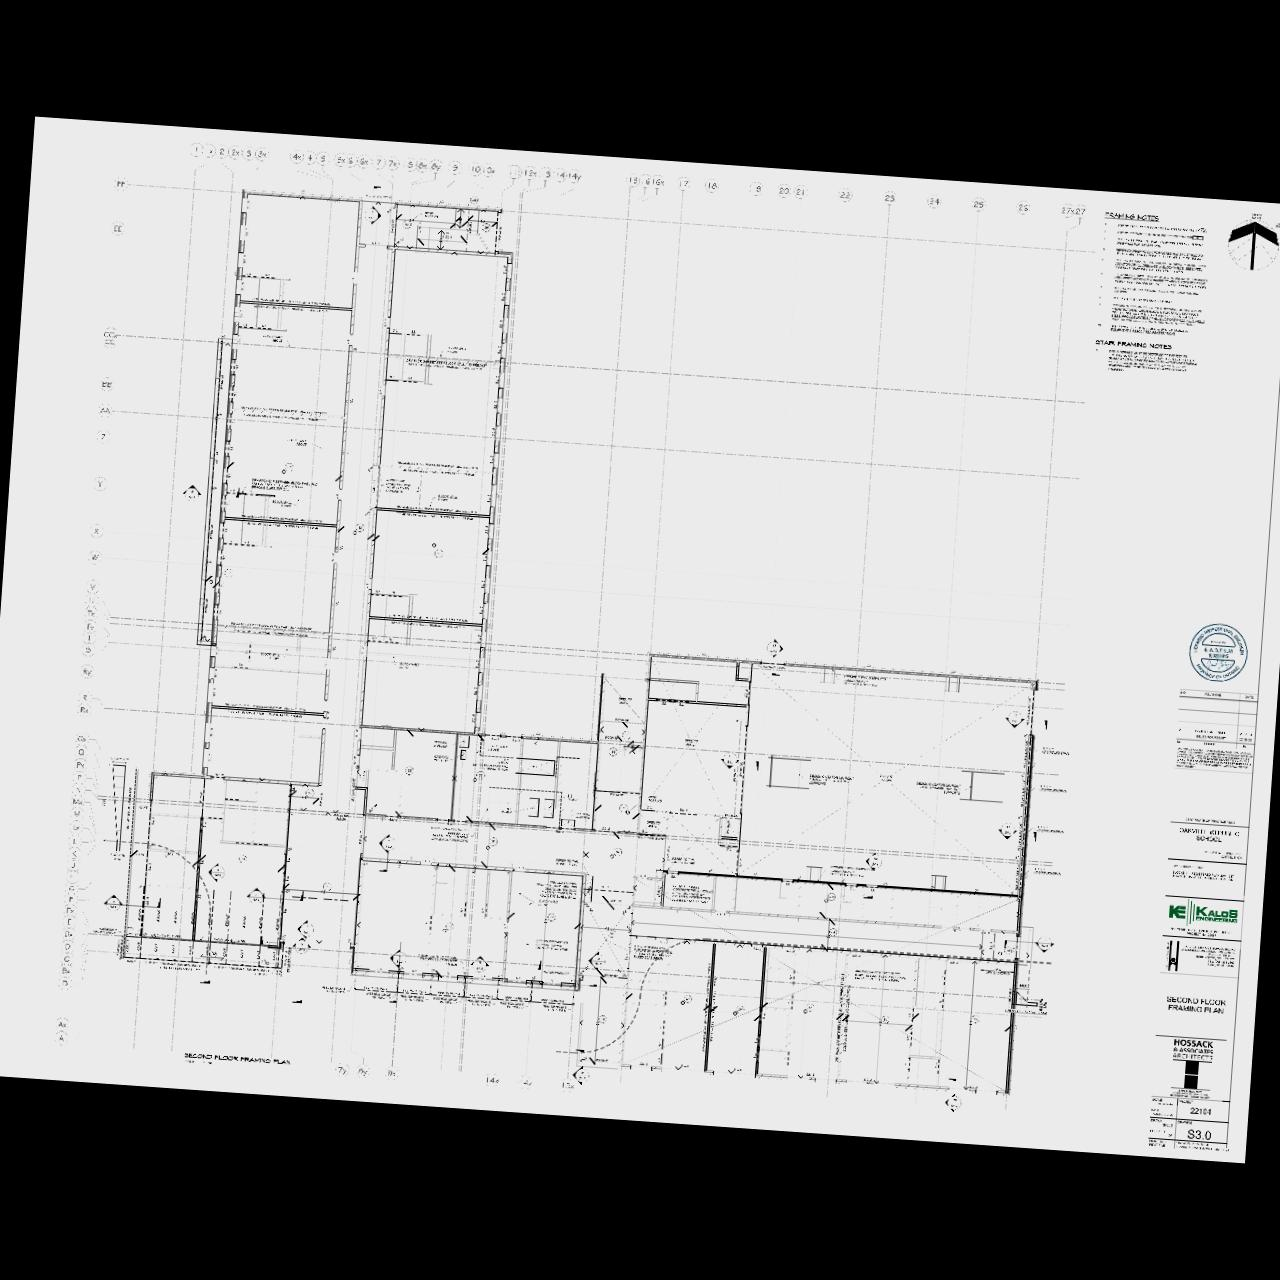detail: (616, 801, 630, 814), (474, 769, 488, 782), (432, 548, 447, 560), (596, 1011, 608, 1026), (304, 787, 317, 800), (736, 1002, 748, 1016), (606, 928, 620, 940), (608, 746, 620, 760), (236, 853, 250, 865), (480, 221, 492, 234), (223, 568, 236, 580), (403, 764, 416, 776), (163, 848, 174, 862), (682, 992, 694, 1004), (828, 926, 840, 938), (612, 846, 624, 858), (322, 881, 334, 893), (442, 231, 455, 242), (546, 912, 559, 923), (620, 730, 633, 741), (444, 921, 457, 932), (402, 220, 416, 230), (971, 1014, 982, 1026), (825, 892, 838, 902), (469, 195, 480, 206), (488, 836, 499, 847), (284, 462, 296, 472), (356, 522, 366, 534), (805, 1002, 815, 1014), (880, 1014, 891, 1024), (1003, 945, 1013, 956), (209, 950, 219, 959)
elevation: (376, 832, 399, 856), (468, 954, 492, 976), (388, 946, 408, 972), (205, 862, 228, 884), (1034, 933, 1056, 955), (864, 850, 884, 874), (294, 919, 316, 940), (180, 484, 203, 504), (571, 1063, 590, 1087), (1004, 709, 1025, 730), (766, 637, 786, 659), (996, 821, 1018, 841), (720, 750, 742, 770), (942, 1092, 962, 1114), (292, 936, 314, 956), (246, 886, 268, 906), (102, 893, 124, 913), (364, 204, 382, 227), (586, 950, 604, 973)
title: (182, 1049, 292, 1071)
